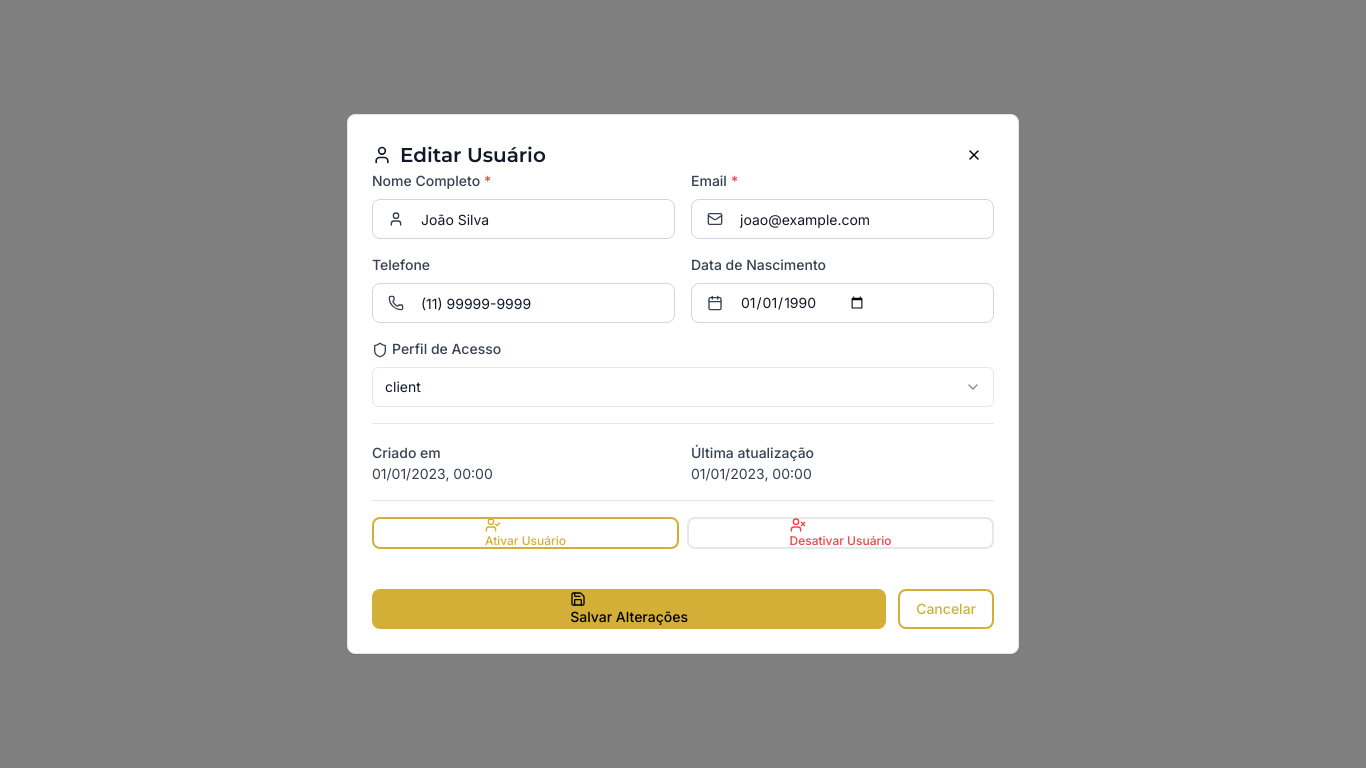
it: UserEditModal › deve mostrar erro quando falha ao salvar
Tentar salvar
Click the button "Salvar Alterações": click(629, 609) [372, 589, 886, 629]
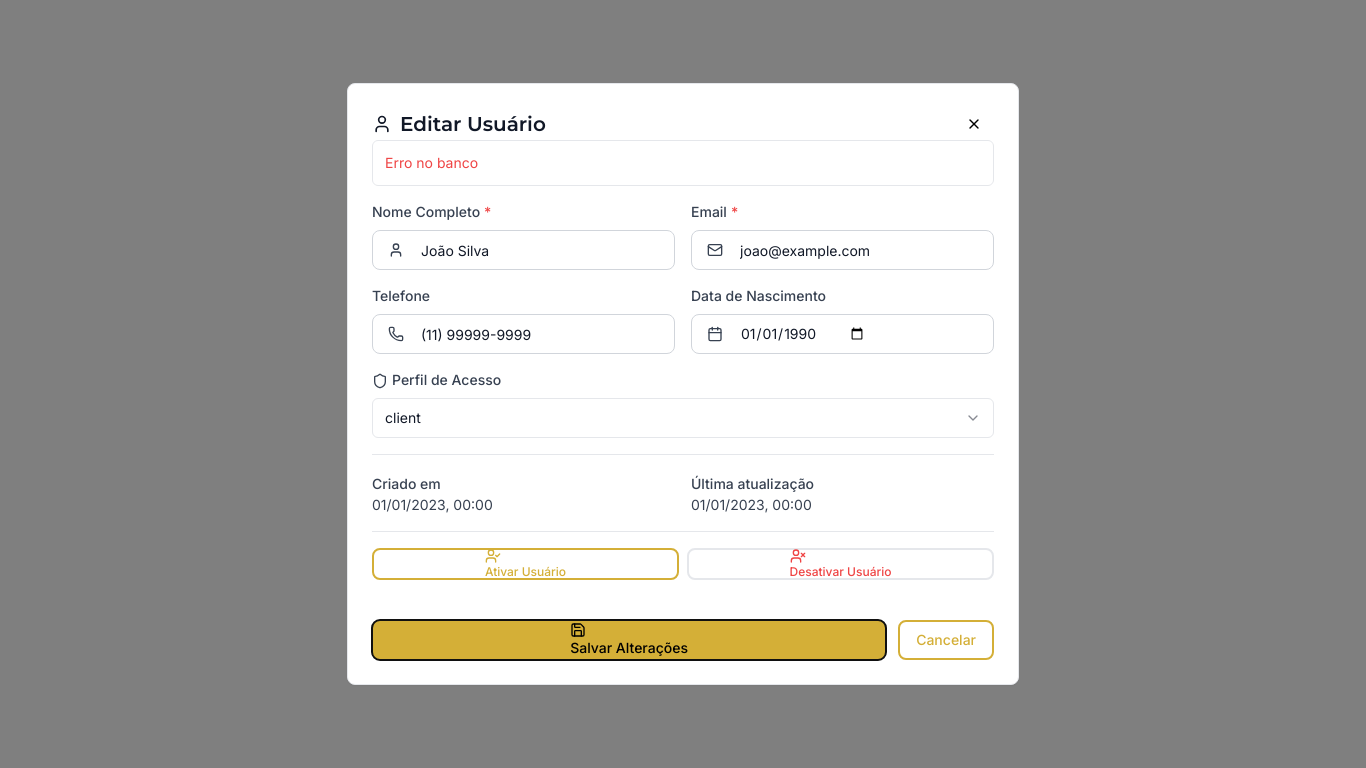
Expected: the text "Erro no banco" is shown, [385, 154, 478, 171]
